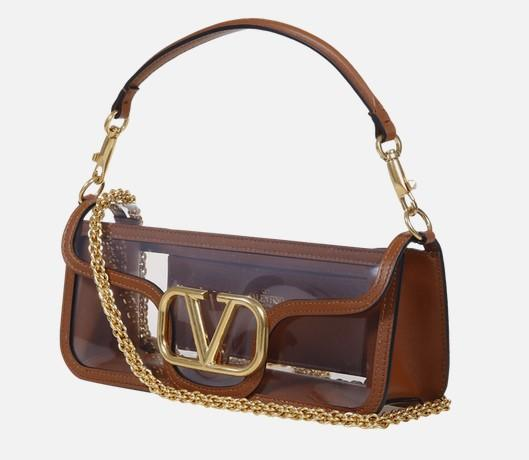VALENTINO: (157, 285, 269, 376)
